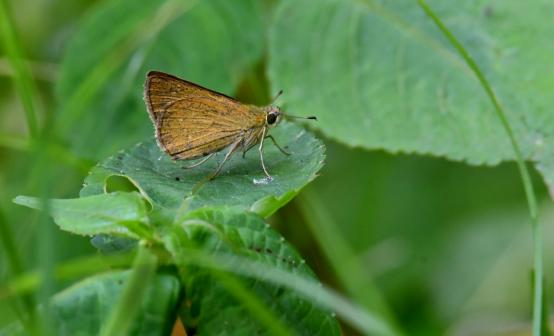Hesperiidae: (141, 67, 318, 182)
